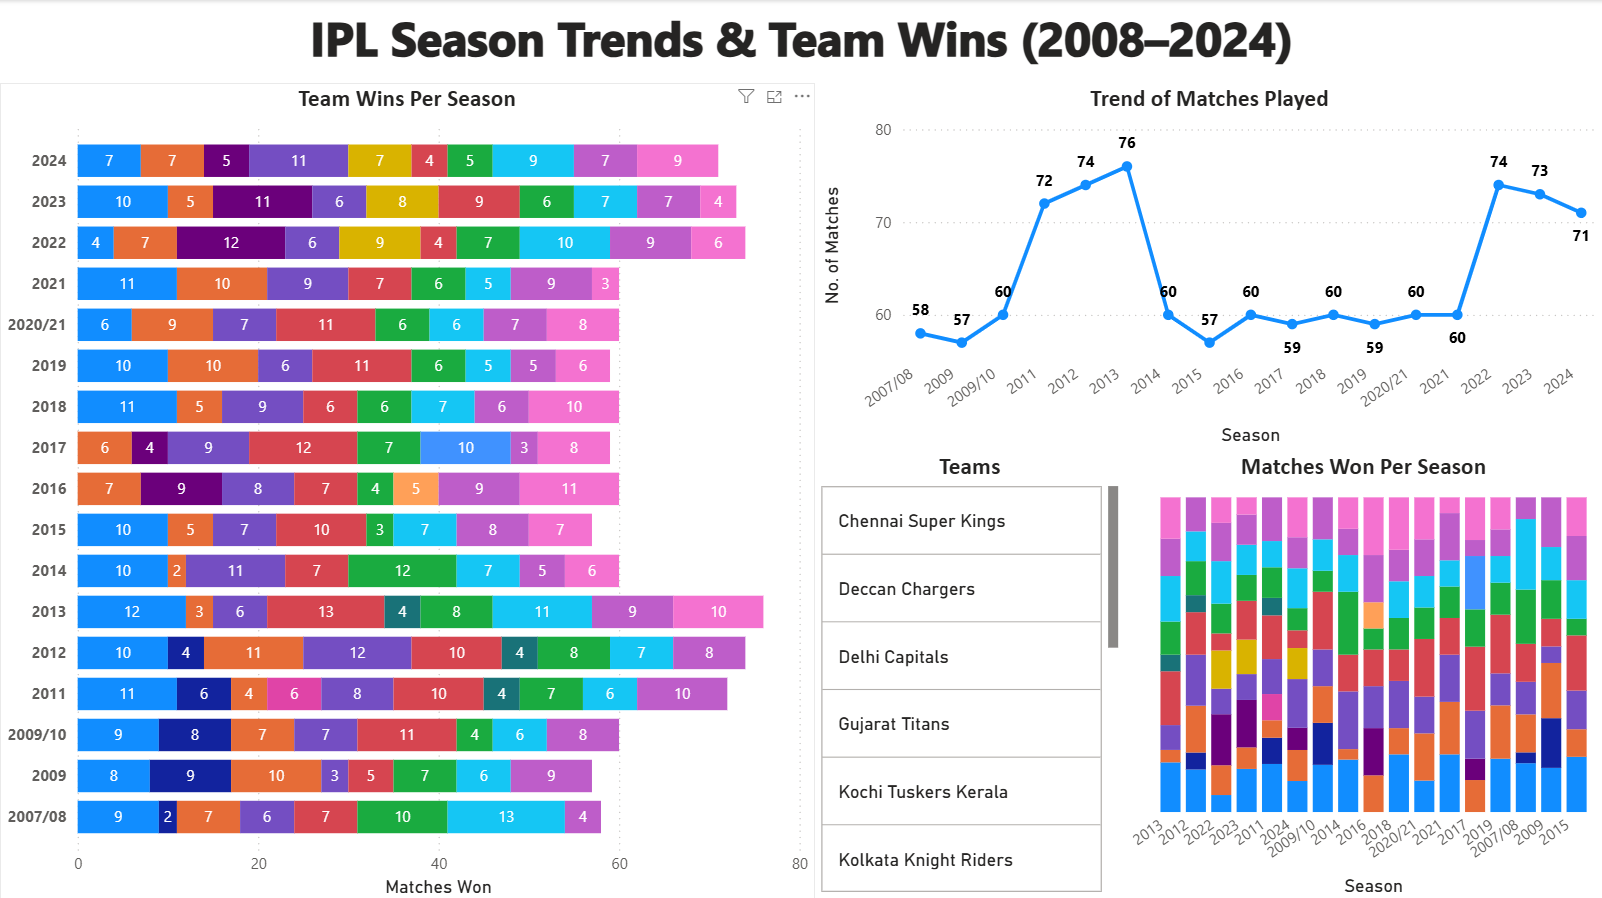

The dashboard page shown, as its layout file describes it:
{"tool":"powerbi","page":{"name":"Season Trends","canvas":[1280,720],"ordinal":0},"visuals":[{"type":"barChart","title":"Team Wins Per Season","fields":{"Category":["season_team_summary.season"],"Y":["Sum(season_team_summary.matches_won)"],"Series":["season_team_summary.team"]},"box":[0,66.1,650.2,654.2],"z":0},{"type":"lineChart","title":"Trend of Matches Played","fields":{"Category":["season_team_summary.season"],"Y":["Sum(season_team_summary.matches_won)"]},"box":[650.2,66.1,629.8,294.1],"z":1000},{"type":"advancedSlicerVisual","title":"Teams","fields":{"Values":["season_team_summary.team"]},"box":[650.2,360.2,247.2,360.2],"z":2000},{"type":"hundredPercentStackedColumnChart","title":"Matches Won Per Season","fields":{"Category":["season_team_summary.season"],"Y":["Sum(season_team_summary.matches_won)"],"Series":["season_team_summary.team"]},"box":[897.4,360.2,382.6,360.2],"z":3000},{"type":"textbox","box":[0,0,1280,66.1],"z":4000}]}

Visuals, with their boxes in screenshot pixels (x1, y1, x2, y2), scaled from the page's 1280x720 canvas onto the 1602x898 screenshot:
"Team Wins Per Season" barChart: box=[0, 82, 814, 897]
"Trend of Matches Played" lineChart: box=[814, 82, 1601, 449]
"Teams" advancedSlicerVisual: box=[814, 449, 1123, 897]
"Matches Won Per Season" hundredPercentStackedColumnChart: box=[1123, 449, 1601, 897]
textbox: box=[0, 0, 1601, 82]
